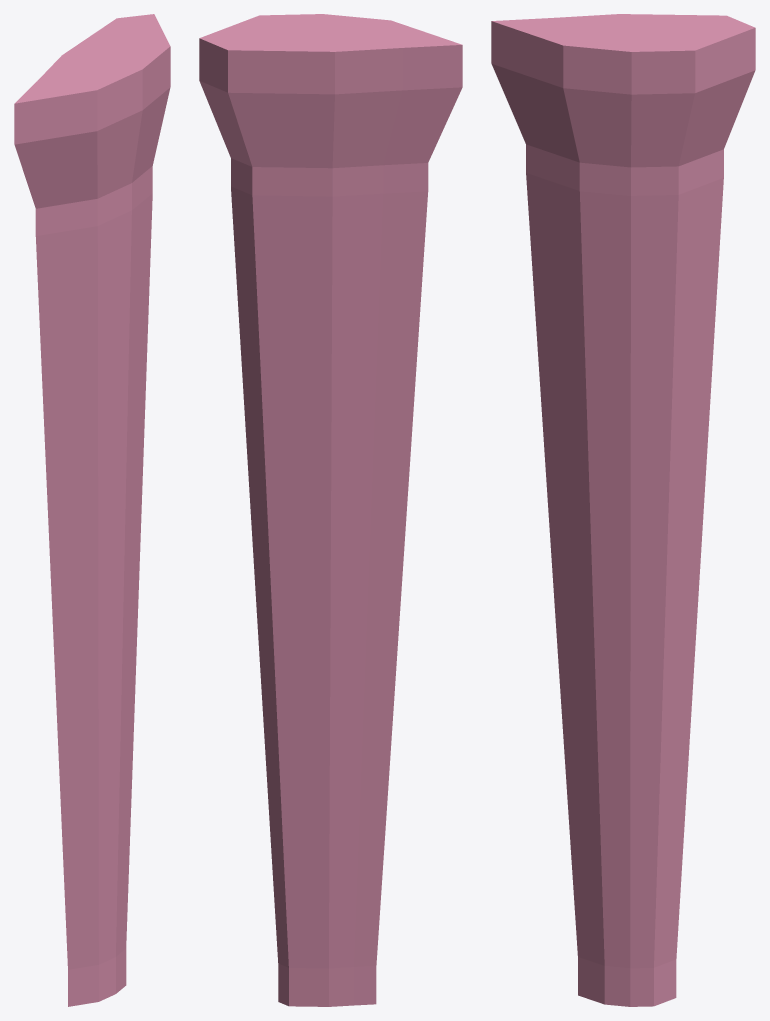
File: Busan.obj
3 views of the same model, side by side, from view 1: azimuth 30°, elevation 25°; view 2: azimuth 150°, elevation 25°; view 3: azimuth 330°, elevation 25° (orthographic). The views are drawn at different scales.
Visible parts, largest first — view 1: Busan; view 2: Busan; view 3: Busan.
Boxes of the visible parts, <box> form: Busan: <box>14,14,170,1006</box>; Busan: <box>199,14,462,1006</box>; Busan: <box>491,14,755,1006</box>.
Bounding box in the file's own units: 11.18 × 50.5 × 6.76.
